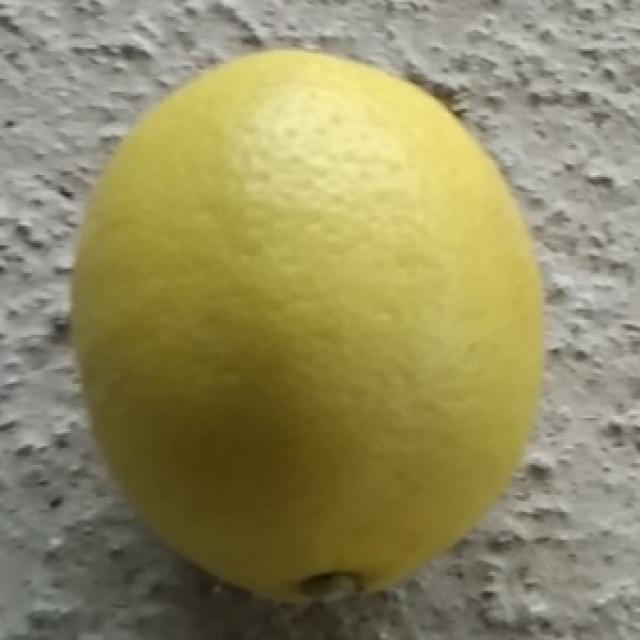Lemon: (70, 48, 548, 610)
